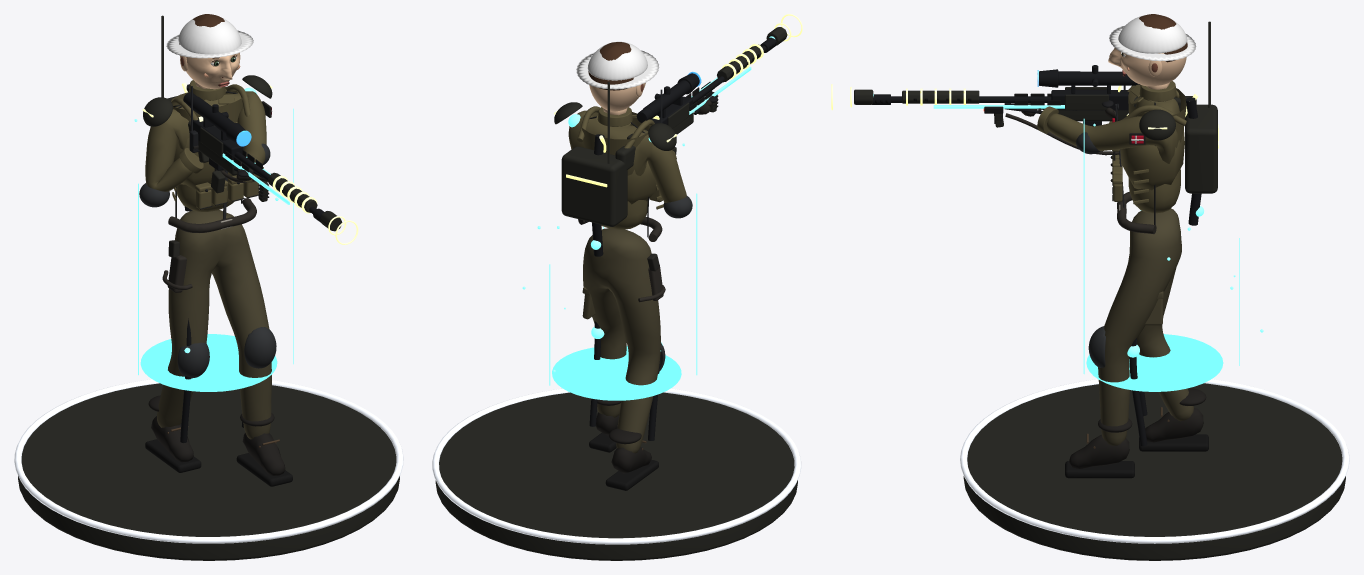
Rendered from skytte_std.glb.
3 views of the same model, side by side, from view 1: azimuth 30°, elevation 25°; view 2: azimuth 150°, elevation 25°; view 3: azimuth 270°, elevation 25° (orthographic). The views are drawn at different scales.
Visible parts, largest first — view 1: fod_net, menneske_net, op1_net, hoved_net, op4.002_net, vaaben_net, op3.001_net, op3_net, op4_net, op4.001_net; view 2: fod_net, menneske_net, op3.001_net, op4.002_net, hoved_net, op1_net, vaaben_net, op4.001_net, op3_net, op4_net; view 3: fod_net, menneske_net, op1_net, op4.002_net, hoved_net, op3.001_net, vaaben_net, op3_net, op4.001_net, op4_net, op1.001_net.
Boxes of the visible parts, x1=… form: fod_net: x1=14, y1=379, x2=403, y2=560; menneske_net: x1=145, y1=80, x2=292, y2=486; op1_net: x1=139, y1=84, x2=276, y2=378; hoved_net: x1=166, y1=14, x2=253, y2=89; op4.002_net: x1=134, y1=108, x2=293, y2=391; vaaben_net: x1=170, y1=92, x2=324, y2=222; op3.001_net: x1=142, y1=15, x2=272, y2=126; op3_net: x1=198, y1=116, x2=342, y2=231; op4_net: x1=182, y1=82, x2=358, y2=244; op4.001_net: x1=180, y1=84, x2=257, y2=443; fod_net: x1=432, y1=388, x2=801, y2=560; menneske_net: x1=568, y1=96, x2=717, y2=490; op3.001_net: x1=554, y1=82, x2=676, y2=226; op4.002_net: x1=522, y1=143, x2=697, y2=400; hoved_net: x1=576, y1=41, x2=659, y2=111; op1_net: x1=577, y1=89, x2=692, y2=372; vaaben_net: x1=615, y1=37, x2=776, y2=169; op4.001_net: x1=568, y1=114, x2=662, y2=440; op3_net: x1=652, y1=27, x2=787, y2=128; op4_net: x1=599, y1=14, x2=802, y2=152; fod_net: x1=960, y1=379, x2=1349, y2=560; menneske_net: x1=1021, y1=81, x2=1208, y2=478; op1_net: x1=1076, y1=85, x2=1186, y2=367; op4.002_net: x1=1083, y1=118, x2=1263, y2=391; hoved_net: x1=1108, y1=14, x2=1196, y2=86; op3.001_net: x1=1139, y1=21, x2=1218, y2=193; vaaben_net: x1=872, y1=65, x2=1196, y2=126; op3_net: x1=854, y1=85, x2=1121, y2=109; op4.001_net: x1=1127, y1=97, x2=1203, y2=446; op4_net: x1=831, y1=84, x2=1198, y2=116; op1.001_net: x1=1005, y1=93, x2=1118, y2=155.
Bounding box in the file's own units: 1.94 × 2.55 × 2.58.
